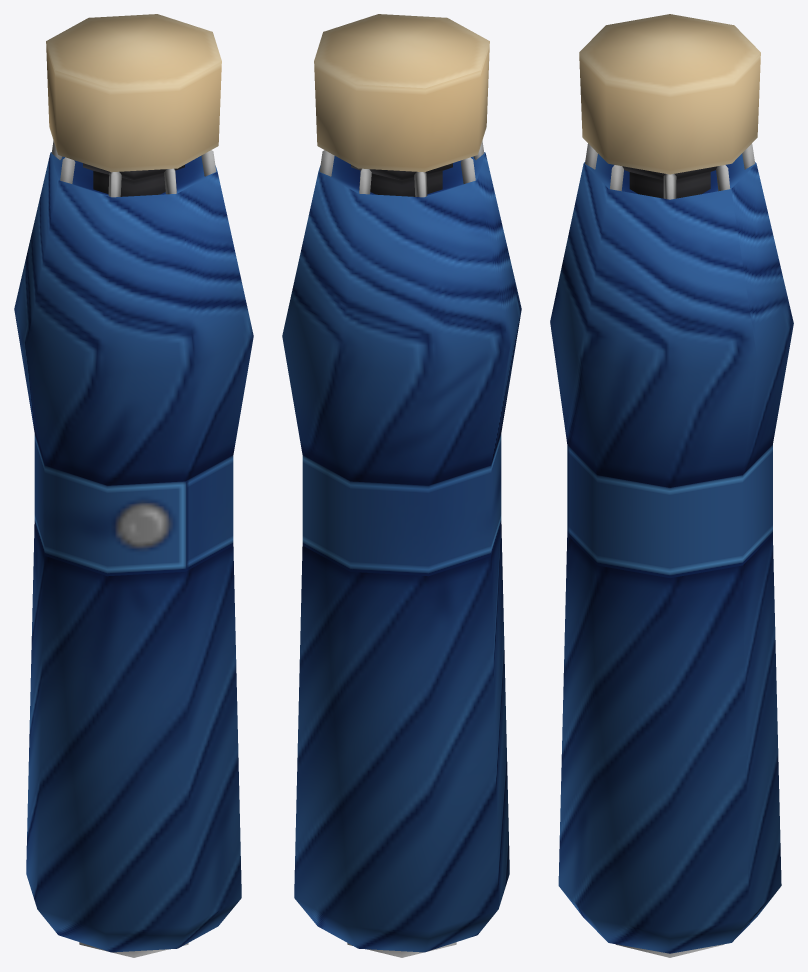
File: set_foldingumbrella_03.fbx
The picture shows the model from 3 angles, left to right: view 1: azimuth 30°, elevation 25°; view 2: azimuth 150°, elevation 25°; view 3: azimuth 270°, elevation 25°; orthographic projection.
Parts seen in each view (by area): view 1: foldingumbrella_03, handle_03; view 2: foldingumbrella_03, handle_03; view 3: foldingumbrella_03, handle_03.
Part boxes in pixels (left/top/right/bottom): foldingumbrella_03: left=14, top=140, right=253, bottom=957; handle_03: left=46, top=14, right=221, bottom=172; foldingumbrella_03: left=282, top=140, right=521, bottom=957; handle_03: left=314, top=14, right=489, bottom=172; foldingumbrella_03: left=550, top=143, right=793, bottom=957; handle_03: left=579, top=14, right=760, bottom=174.
Bounding box in the file's own units: 5.4 × 21.37 × 5.31.
